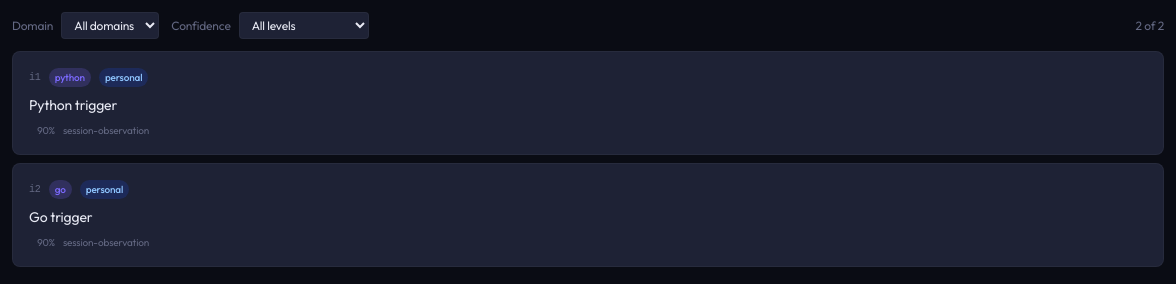
InstinctFeed › filters by domain
Select "python" in the dropdown labelled "Domain". click: (110, 26)
box: [61,12,159,39]
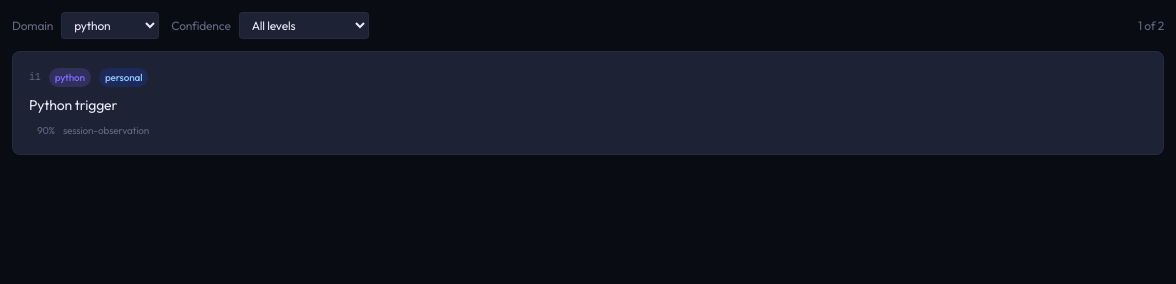
Expected: the text "Python trigger" is shown, [29,95,117,115]
Now the button "Go trigger" is gone
